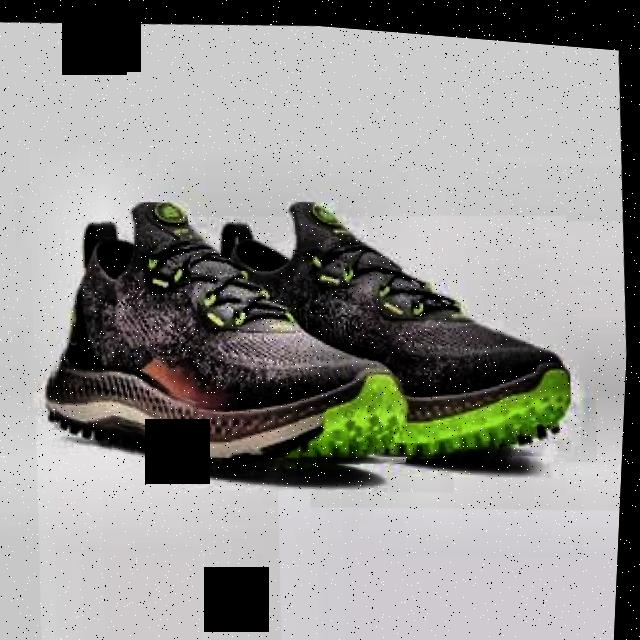shoe: (180, 170, 584, 478), (36, 175, 420, 495)
